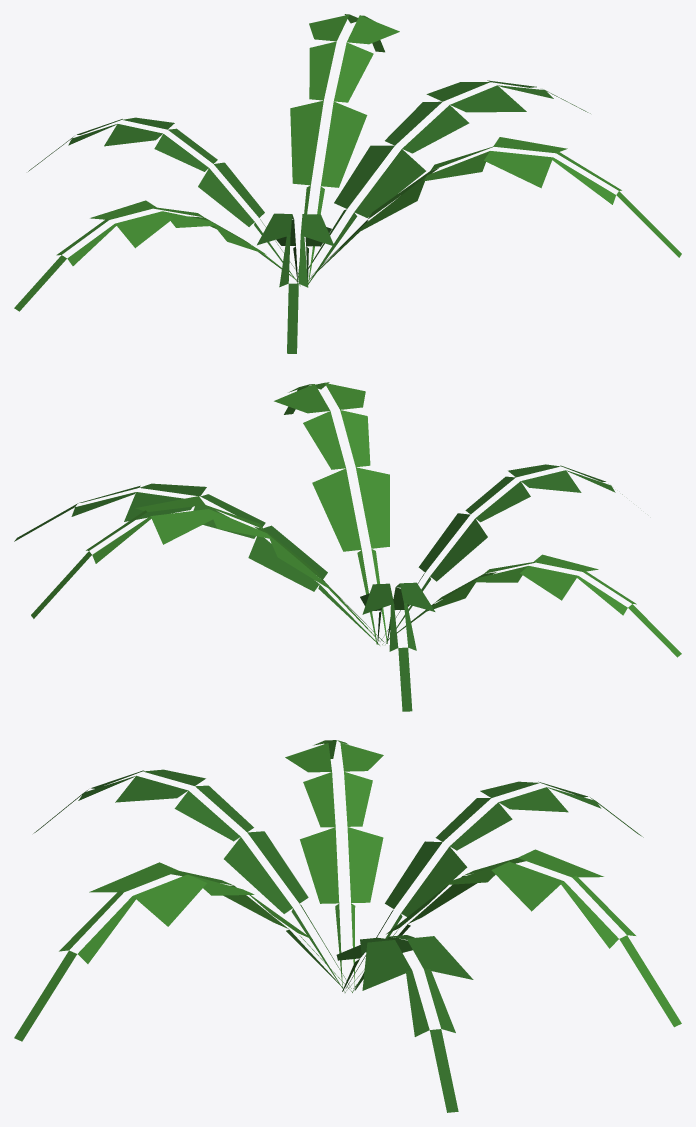
File: Fern_B.fbx
The picture shows the model from 3 angles, top to bottom: view 1: azimuth 30°, elevation 25°; view 2: azimuth 150°, elevation 25°; view 3: azimuth 270°, elevation 25°; orthographic projection. The views are drawn at different scales.
Parts seen in each view (by area): view 1: Fern_B.001; view 2: Fern_B.001; view 3: Fern_B.001.
Part boxes in pixels (x1,y1,x2,y2): Fern_B.001: [14, 14, 681, 353]; Fern_B.001: [14, 382, 681, 711]; Fern_B.001: [14, 740, 681, 1112].
Size of the model in its own units: 1.15 by 0.29 by 0.9005.
